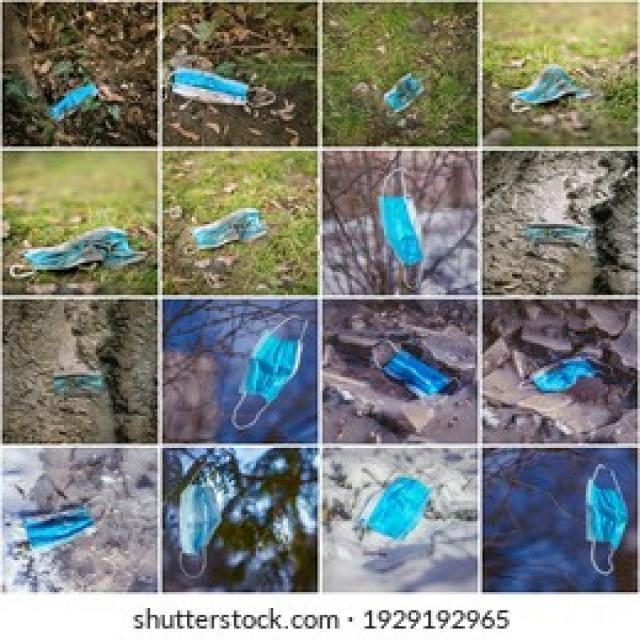face mask: (234, 316, 315, 420), (372, 172, 436, 290), (19, 224, 142, 284), (362, 471, 438, 546), (581, 462, 633, 570), (24, 494, 114, 551), (507, 59, 606, 110), (374, 338, 451, 400), (182, 468, 224, 576), (180, 68, 288, 110)
